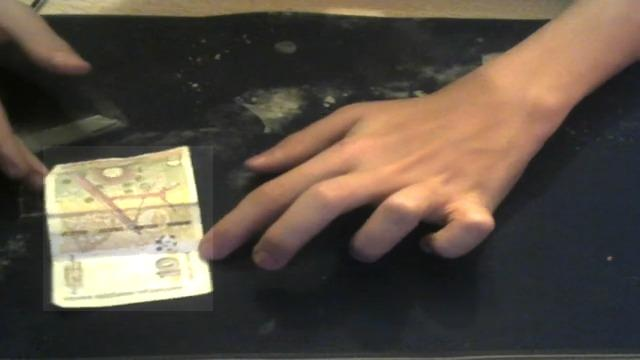10leva: (43, 146, 213, 311)
